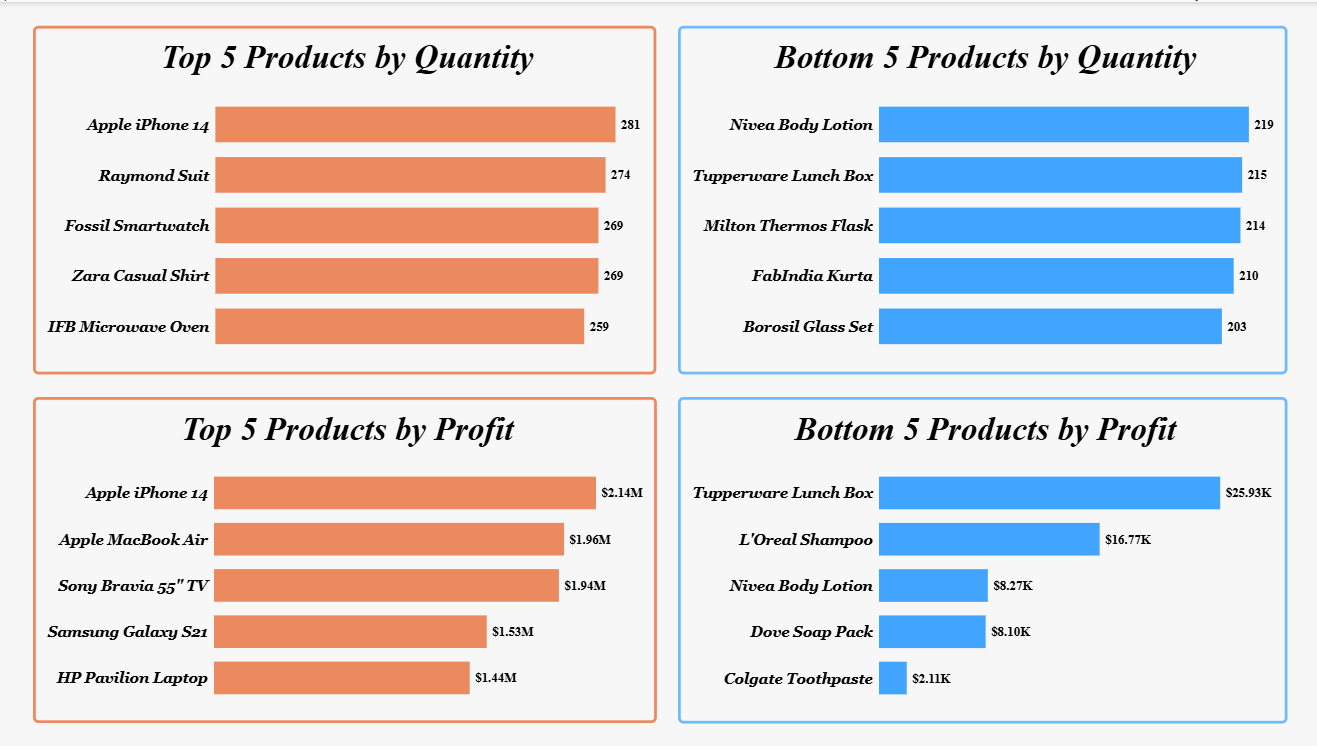

What the dashboard file says about the page in this screenshot:
{"tool":"powerbi","page":{"name":"Top/Bottom 5 Products","canvas":[1920,1080],"ordinal":2},"visuals":[{"type":"barChart","title":"Top 5 Products by Quantity","fields":{"Category":["Dim Product.Product Name"],"Y":["Measures Table.Total Quantity"]},"box":[57.5,35,902.5,505],"z":0},{"type":"barChart","title":"Top 5 Products by Profit","fields":{"Category":["Dim Product.Product Name"],"Y":["Measures Table.Simulated profit"]},"box":[57.9,571.9,903,472.3],"z":1000},{"type":"barChart","title":"Bottom 5 Products by Quantity","fields":{"Category":["Dim Product.Product Name"],"Y":["Measures Table.Total Quantity"]},"box":[992.5,35,882.5,505],"z":2000},{"type":"barChart","title":"Bottom 5 Products by Profit","fields":{"Category":["Dim Product.Product Name"],"Y":["Measures Table.Simulated profit"]},"box":[992.5,572.5,882.5,472.5],"z":3000}]}

Visuals, with their boxes in screenshot pixels (x1, y1, x2, y2), scaled from the page's 1920x1080 canvas onto the 1317x746 screenshot:
"Top 5 Products by Quantity" barChart: detection(39, 24, 658, 373)
"Top 5 Products by Profit" barChart: detection(40, 395, 659, 721)
"Bottom 5 Products by Quantity" barChart: detection(681, 24, 1286, 373)
"Bottom 5 Products by Profit" barChart: detection(681, 395, 1286, 722)
